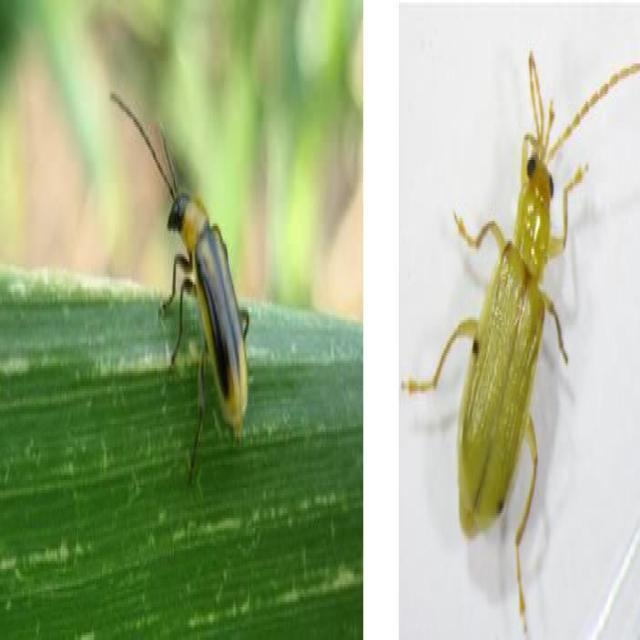gusano_gris: (400, 49, 640, 640)
trips: (110, 89, 251, 486)
